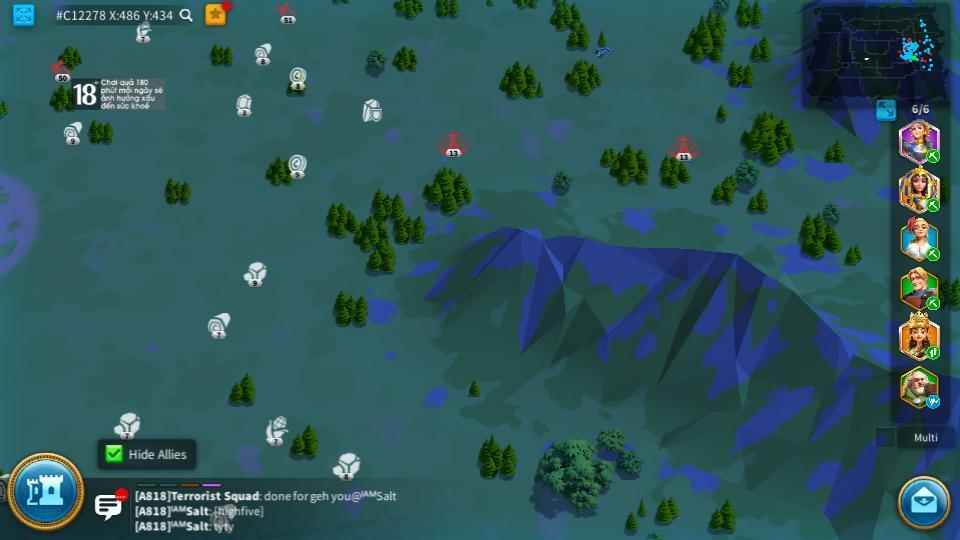gem-z-out: (245, 260, 267, 286), (234, 94, 254, 115)
march_farming: (925, 197, 941, 212)
march_idle: (925, 396, 942, 408)
march_marching: (925, 150, 942, 162), (925, 297, 943, 308), (925, 347, 941, 359)
